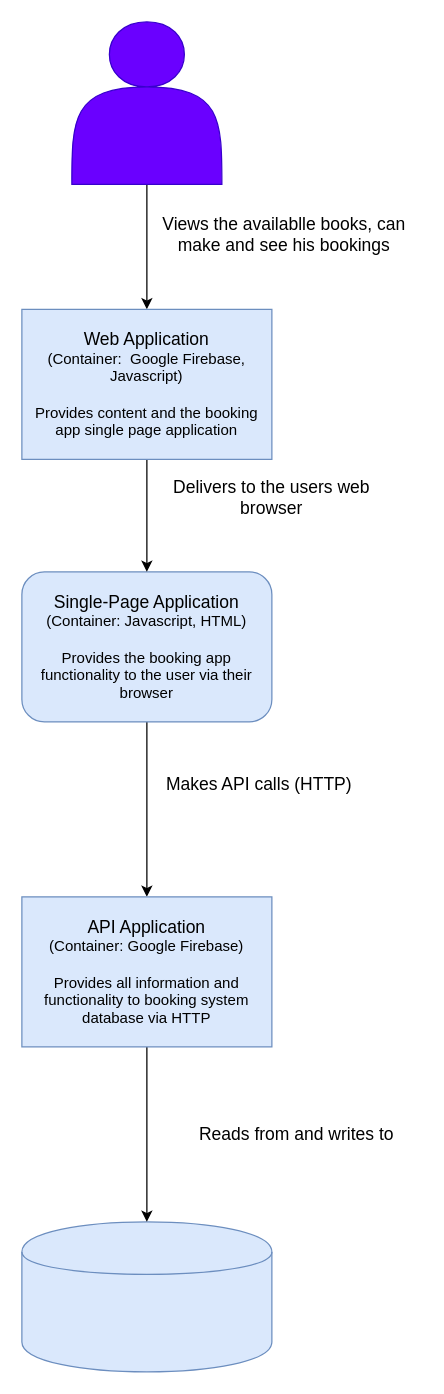
Some shapes in this 444 by 1394 pixel diagram are drawn without their labels. The centre of each missing label's shape, as x and y in pixels:
Customer (person) App user: the point at 146,102
Database (Container: Google Firebase) Stores stock information, bookings: the point at 146,1296
